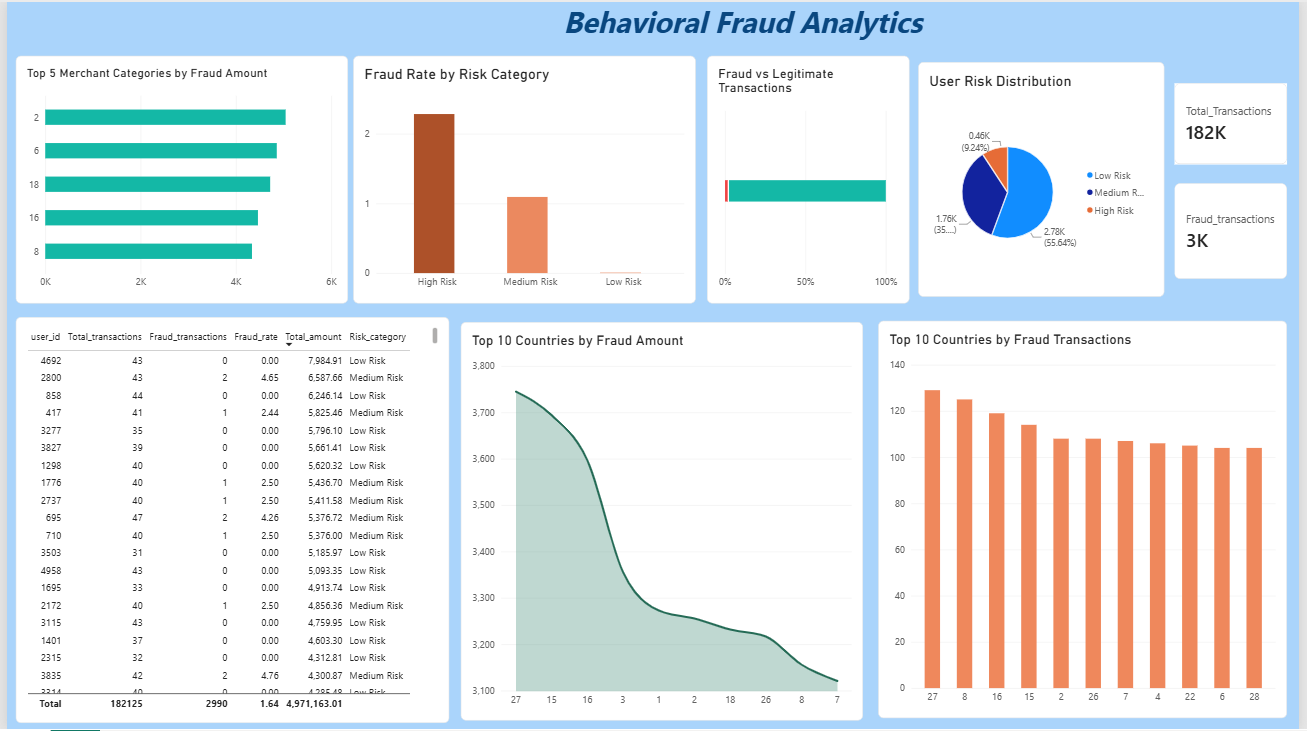

The page's visual inventory and layout, read from the dashboard file:
{"tool":"powerbi","page":{"name":"Page 1","canvas":[1920,1080],"ordinal":0},"visuals":[{"type":"cardVisual","fields":{"Data":["Sum(vw_fraud_summary.total_transactions)"]},"box":[1734.4,120.7,167.1,120.7],"z":0},{"type":"clusteredColumnChart","title":"Top 10 Countries by Fraud Transactions","fields":{"Category":["vw_country_fraud.country"],"Y":["Sum(vw_country_fraud.fraud_transactions)"]},"box":[1294.3,473.5,607.2,590.5],"z":1000},{"type":"clusteredColumnChart","title":"Fraud Rate by Risk Category","fields":{"Category":["vw_user_risk.risk_category"],"Y":["Avg(vw_user_risk.fraud_transactions)"]},"box":[514.4,79.8,508.8,367.7],"z":2000},{"type":"stackedAreaChart","title":"Top 10 Countries by Fraud Amount","fields":{"Category":["vw_country_fraud.country"],"Y":["Sum(vw_country_fraud.fraud_amount)"]},"box":[674.1,475.4,597.9,592.4],"z":3000},{"type":"clusteredBarChart","title":"Top 5 Merchant Categories by Fraud Amount","fields":{"Category":["vw_merchant_fraud.merchant_category"],"Y":["Sum(vw_merchant_fraud.fraud_amount)"]},"box":[13,79.8,494,367.7],"z":4000},{"type":"pieChart","title":"User Risk Distribution","fields":{"Category":["vw_user_risk.risk_category"],"Y":["CountNonNull(vw_user_risk.user_id)"]},"box":[1353.7,89.1,365.8,349.1],"z":5000},{"type":"hundredPercentStackedBarChart","title":"Fraud vs Legitimate Transactions","fields":{"Y":["Sum(vw_fraud_summary.fraud_transactions)","Sum(vw_fraud_summary.legitimate_transactions)"]},"box":[1039.9,79.8,300.8,367.7],"z":6000},{"type":"tableEx","fields":{"Values":["vw_user_risk.user_id","Sum(vw_user_risk.total_transactions)","Sum(vw_user_risk.fraud_transactions)","Avg(vw_user_risk.fraud_rate)","Sum(vw_user_risk.total_amount)","vw_user_risk.risk_category"]},"box":[13,468,644.4,603.5],"z":7000},{"type":"textbox","box":[284.1,0,1617.7,70],"z":8000},{"type":"cardVisual","fields":{"Data":["Sum(vw_fraud_summary.fraud_transactions)"]},"box":[1734.4,269.3,167.1,143],"z":8001}]}

Visuals, with their boxes in screenshot pixels (x1, y1, x2, y2), scaled from the page's 1920x1080 canvas onto the 1307x731 screenshot:
cardVisual - Sum(vw_fraud_summary.total_transactions): 1181 82 1294 163
"Top 10 Countries by Fraud Transactions" clusteredColumnChart: 881 320 1294 720
"Fraud Rate by Risk Category" clusteredColumnChart: 350 54 697 303
"Top 10 Countries by Fraud Amount" stackedAreaChart: 459 322 866 723
"Top 5 Merchant Categories by Fraud Amount" clusteredBarChart: 9 54 345 303
"User Risk Distribution" pieChart: 922 60 1171 297
"Fraud vs Legitimate Transactions" hundredPercentStackedBarChart: 708 54 913 303
tableEx - vw_user_risk.user_id x Sum(vw_user_risk.total_transactions): 9 317 448 725
textbox: 193 0 1295 47
cardVisual - Sum(vw_fraud_summary.fraud_transactions): 1181 182 1294 279
